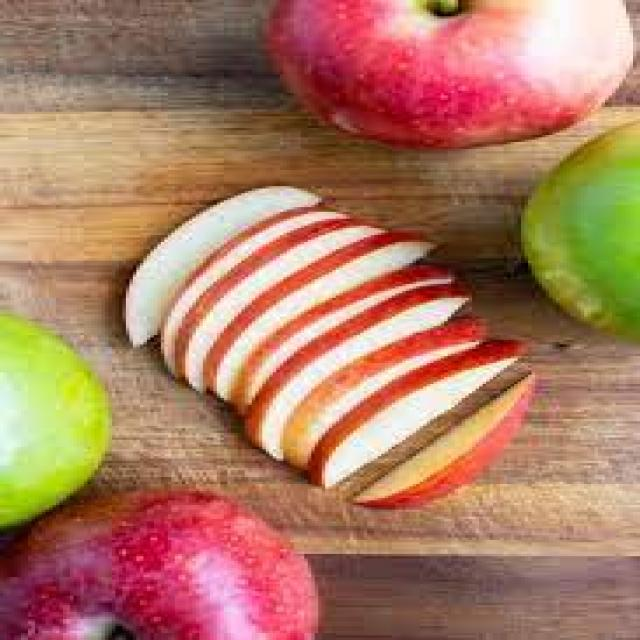Apple: (267, 0, 627, 138), (0, 505, 325, 640), (97, 179, 298, 329), (311, 349, 520, 481), (520, 119, 640, 332), (366, 377, 542, 519), (2, 309, 114, 525)
